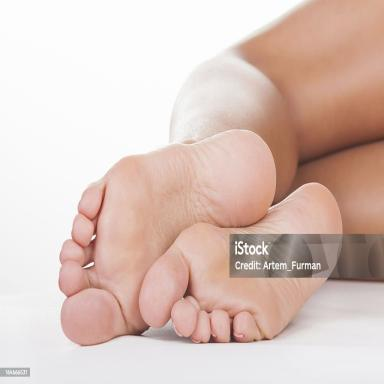normal skin: (59, 2, 384, 344)
